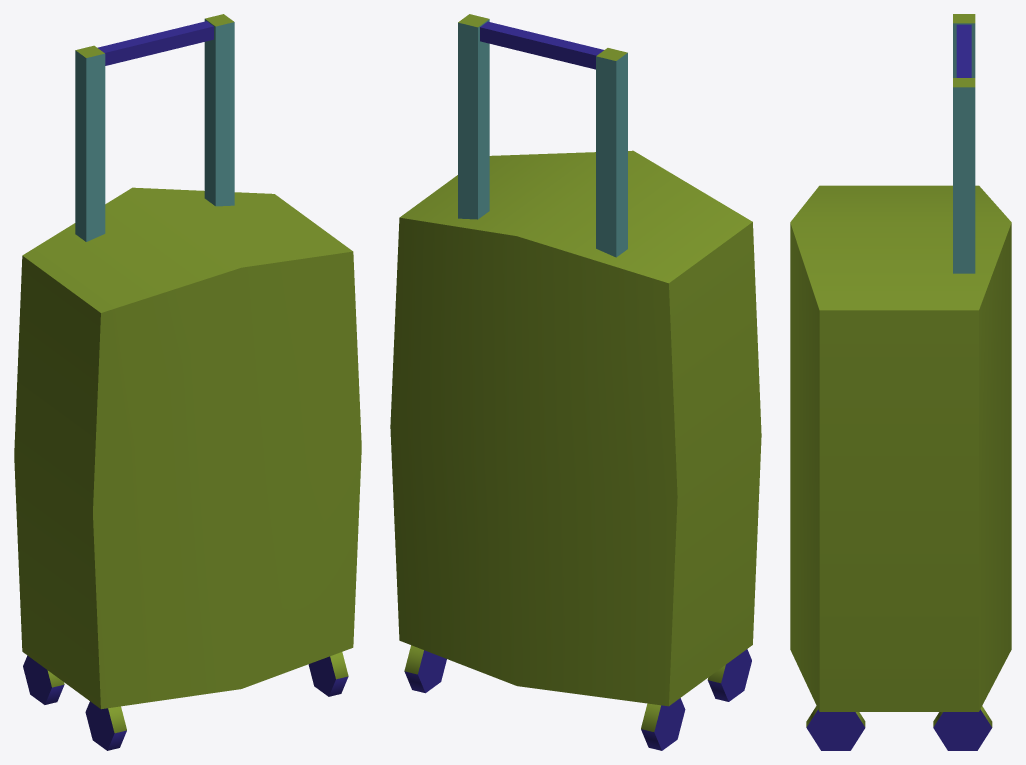
File: valise.FBX
3 views of the same model, side by side, from view 1: azimuth 30°, elevation 25°; view 2: azimuth 150°, elevation 25°; view 3: azimuth 270°, elevation 25° (orthographic). The views are drawn at different scales.
Parts seen in each view (by area): view 1: valise; view 2: valise; view 3: valise.
Part boxes in pixels (left/top/right/bottom): valise: left=14, top=14, right=361, bottom=750; valise: left=390, top=14, right=761, bottom=750; valise: left=790, top=14, right=1011, bottom=750.
Size of the model in its own units: 42.63 by 96.09 by 30.
